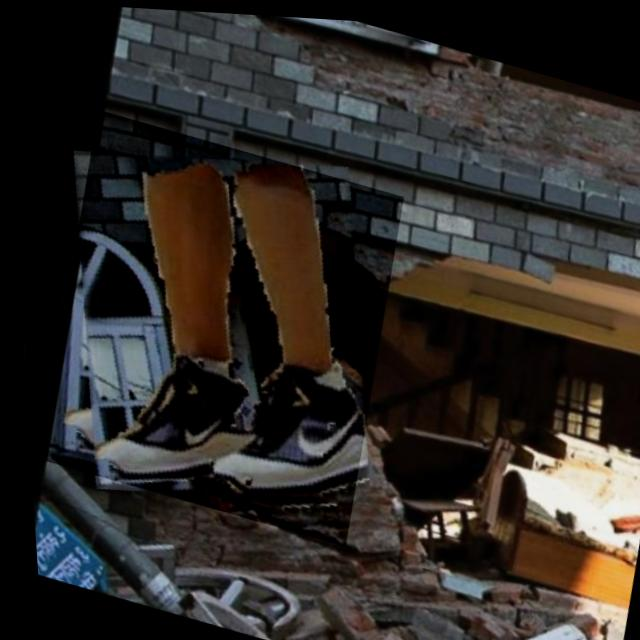Person in Rubble: (14, 104, 420, 546)
